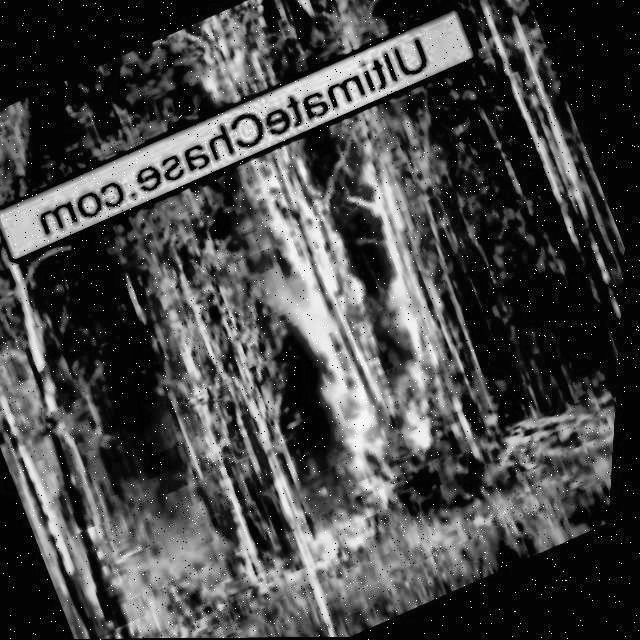Fire: (208, 111, 512, 498), (279, 477, 413, 586), (177, 5, 282, 111)
